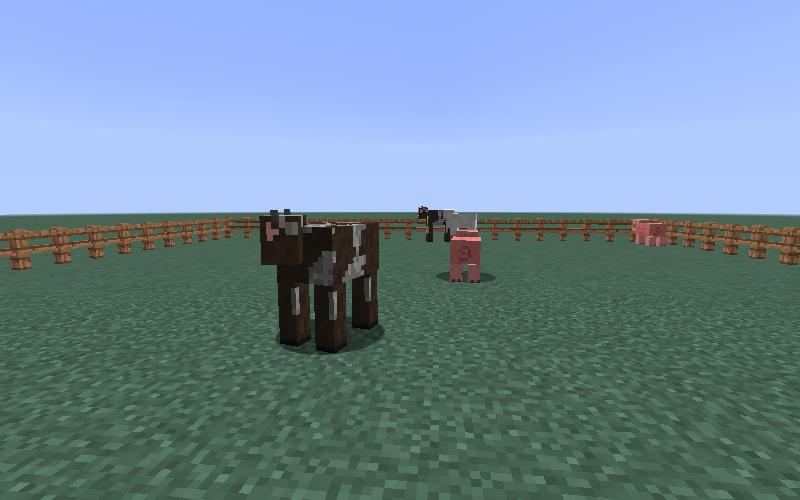cow: (257, 207, 382, 357), (418, 206, 442, 241)
pig: (446, 229, 484, 285), (628, 214, 668, 251)
